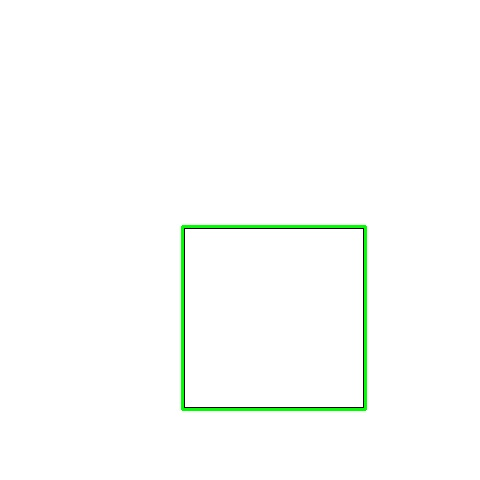line_segment: (181, 225, 367, 411)
